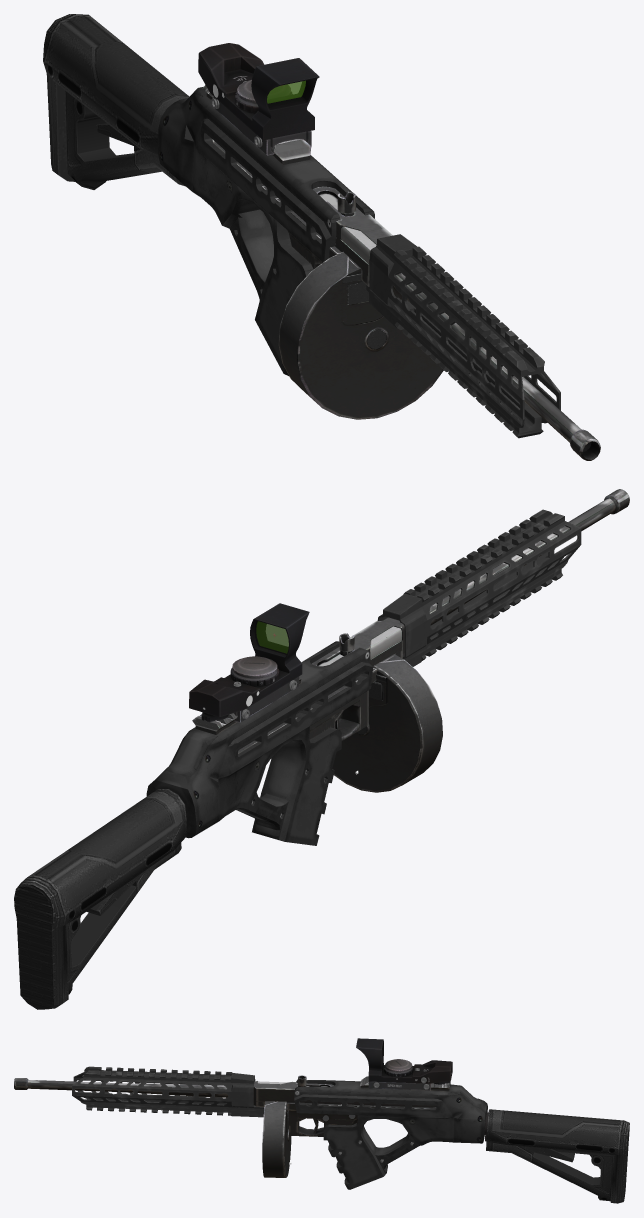
Rendered from tactical_tommy_gun.glb.
The picture shows the model from 3 angles, top to bottom: view 1: azimuth 30°, elevation 25°; view 2: azimuth 150°, elevation 25°; view 3: azimuth 270°, elevation 25°; orthographic projection. The views are drawn at different scales.
Visible parts, largest first — view 1: Object_4, Object_3, Object_7, Object_5, Object_6; view 2: Object_3, Object_7, Object_4, Object_5, Object_6, Object_2; view 3: Object_3, Object_7, Object_5, Object_4, Object_6.
Boxes of the visible parts, <box> form: Object_4: <box>202,85,600,460</box>; Object_3: <box>157,87,374,375</box>; Object_7: <box>43,14,189,189</box>; Object_5: <box>366,234,560,438</box>; Object_6: <box>198,43,319,155</box>; Object_3: <box>146,641,373,845</box>; Object_7: <box>14,788,187,1009</box>; Object_4: <box>192,489,629,792</box>; Object_5: <box>377,509,581,666</box>; Object_6: <box>189,603,309,722</box>; Object_2: <box>256,621,288,653</box>; Object_3: <box>294,1080,487,1189</box>; Object_7: <box>484,1109,629,1203</box>; Object_5: <box>72,1066,264,1117</box>; Object_4: <box>14,1075,450,1177</box>; Object_6: <box>356,1038,452,1090</box>.
Size of the model in its own units: 42.61 by 75.15 by 281.
7 materials, 6 textured.
